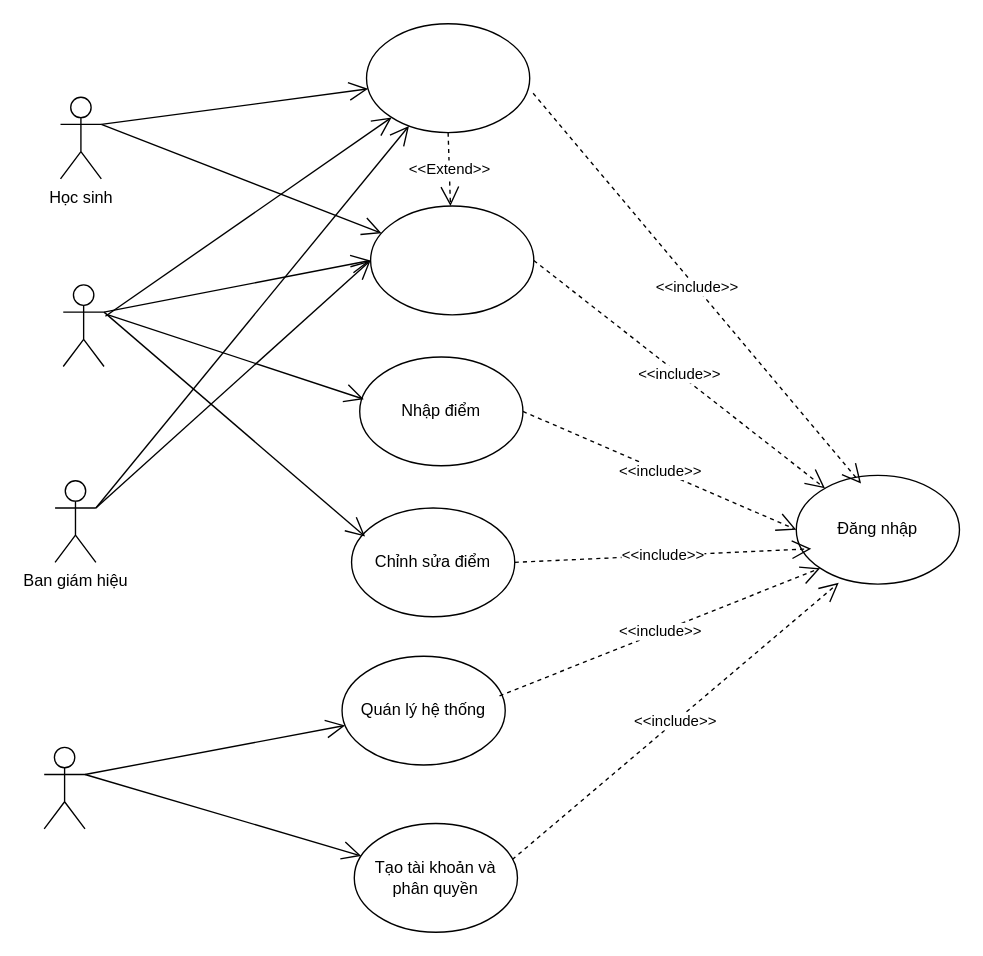
Some shapes in this 983 by 956 pixel diagram are drawn without their labels. The shapes that lost their labels are listed below. From the top down, each one's centre as x and y in pixels, then its label:
At [447,77]: "Xem điểm số cụ thể".
At [451,260]: "Xem bảng điểm".
At [83,325]: "Giáo viên".
At [64,787]: "Admin".
